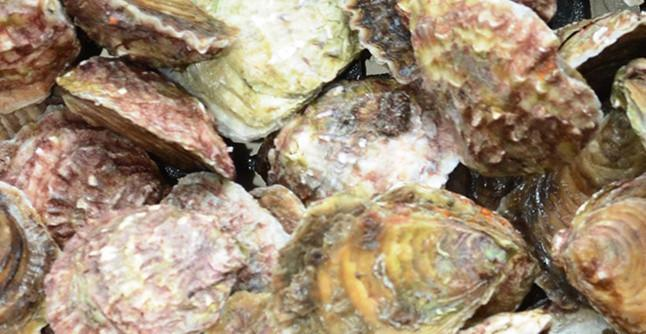3: (555, 10, 646, 103)
Oyster-Closed: (410, 0, 603, 179), (268, 200, 516, 334), (159, 0, 365, 143), (506, 110, 646, 304), (44, 204, 246, 334), (0, 106, 170, 253), (380, 184, 539, 330), (266, 80, 459, 200), (57, 59, 232, 182), (548, 168, 646, 333), (161, 173, 292, 294), (64, 0, 239, 68), (0, 176, 59, 334), (0, 0, 78, 114), (340, 0, 421, 84), (396, 0, 432, 18)
Oyster-Open: (211, 289, 297, 334), (253, 184, 304, 229), (460, 310, 552, 334), (619, 80, 646, 152)
